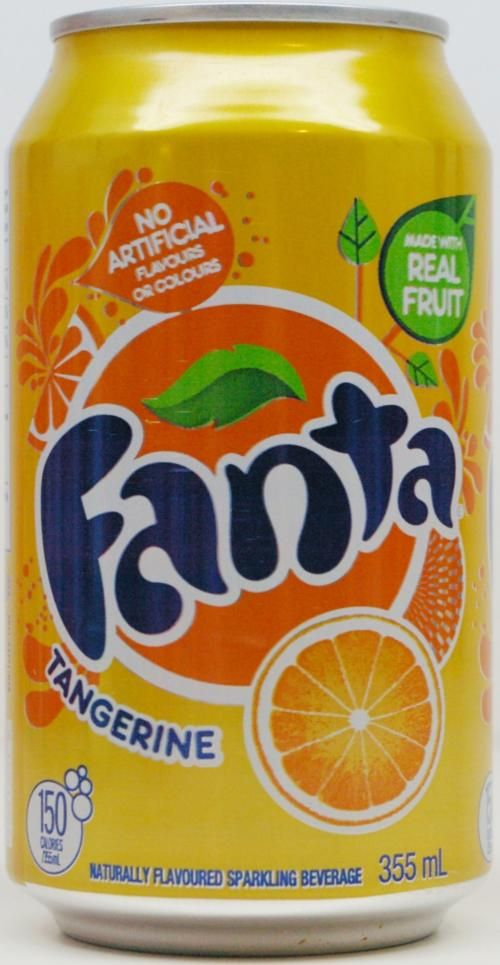Fanta: (9, 17, 475, 960)
